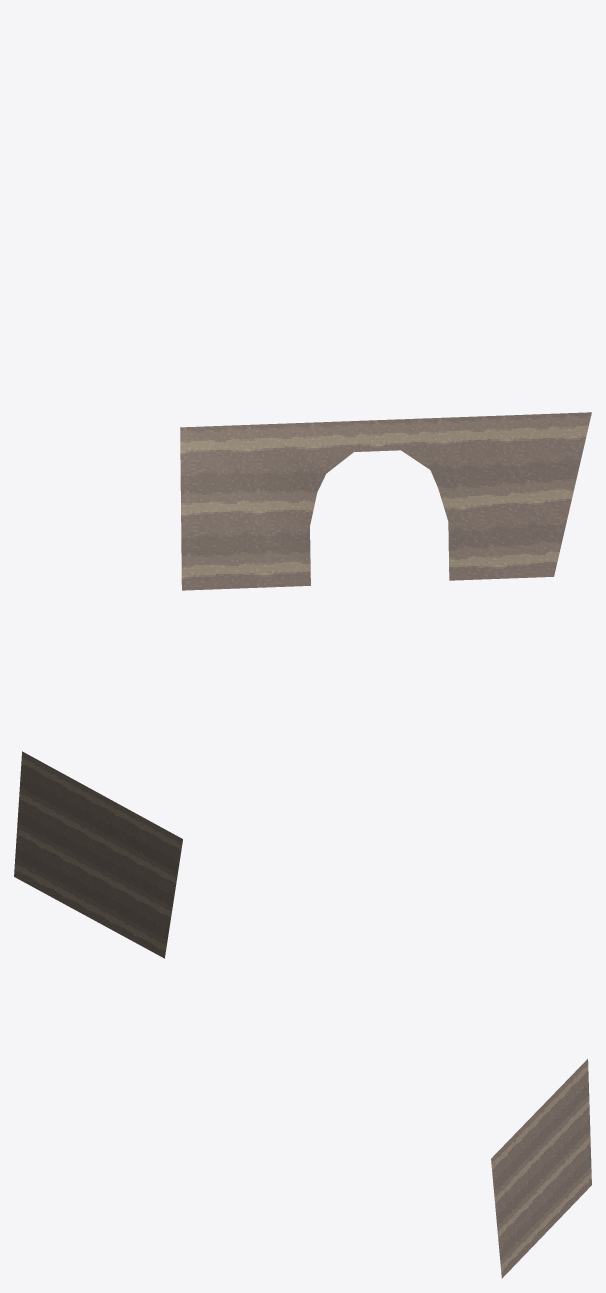
File: kd_stage_1366d7_0_29_bounded.glb
The picture shows the model from 3 angles, top to bottom: view 1: azimuth 30°, elevation 25°; view 2: azimuth 150°, elevation 25°; view 3: azimuth 270°, elevation 25°; orthographic projection. The views are drawn at different scales.
Parts seen in each view (by area): view 1: kd_stage_1366d7_0_29_bounded; view 2: kd_stage_1366d7_0_29_bounded; view 3: kd_stage_1366d7_0_29_bounded.
Part boxes in pixels (x1,y1,x2,y2): kd_stage_1366d7_0_29_bounded: [180, 412, 591, 590]; kd_stage_1366d7_0_29_bounded: [14, 751, 182, 958]; kd_stage_1366d7_0_29_bounded: [491, 1059, 591, 1278].
Bounding box in the file's own units: 26.68 × 8.38 × 36.93.
1 material, 1 textured.
